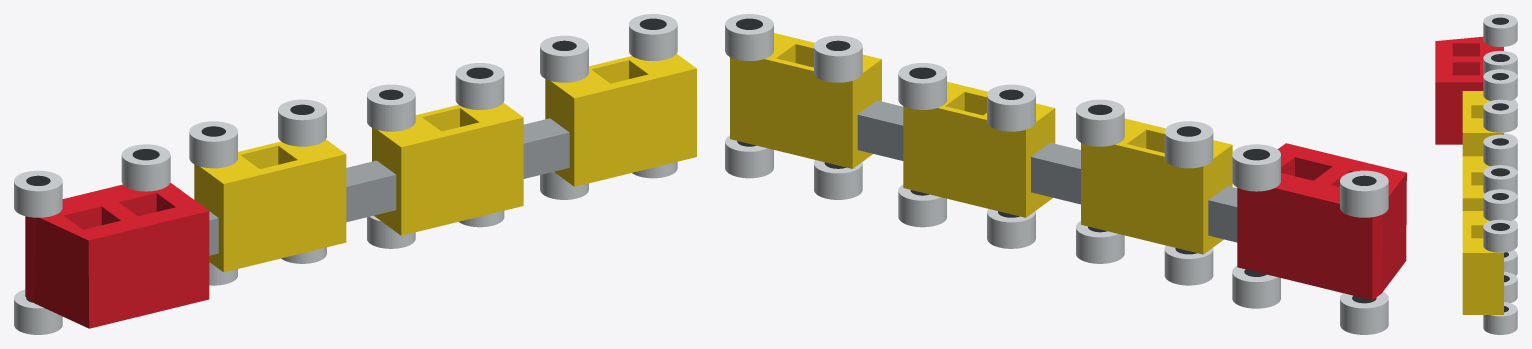
File: tinker.obj
3 views of the same model, side by side, from view 1: azimuth 30°, elevation 25°; view 2: azimuth 150°, elevation 25°; view 3: azimuth 270°, elevation 25° (orthographic). The views are drawn at different scales.
Parts seen in each view (by area): view 1: group_0_16768282, group_0_15277357, group_0_14541540, group_0_10988977, group_0_2829873; view 2: group_0_16768282, group_0_14541540, group_0_15277357, group_0_10988977, group_0_2829873; view 3: group_0_14541540, group_0_16768282, group_0_15277357, group_0_2829873.
Boxes of the visible parts, box(x1,y1,x2,y2) form: group_0_16768282: box(194, 54, 696, 272); group_0_15277357: box(25, 182, 209, 328); group_0_14541540: box(14, 14, 677, 334); group_0_10988977: box(209, 118, 569, 255); group_0_2829873: box(26, 18, 666, 302); group_0_16768282: box(730, 33, 1232, 254); group_0_14541540: box(725, 14, 1388, 334); group_0_15277357: box(1237, 143, 1406, 300); group_0_10988977: box(857, 100, 1237, 242); group_0_2829873: box(736, 18, 1376, 303); group_0_14541540: box(1483, 14, 1517, 334); group_0_16768282: box(1462, 91, 1503, 314); group_0_15277357: box(1435, 36, 1503, 144); group_0_2829873: box(1491, 17, 1509, 312).
Size of the model in its own units: 156 by 34 by 24.
